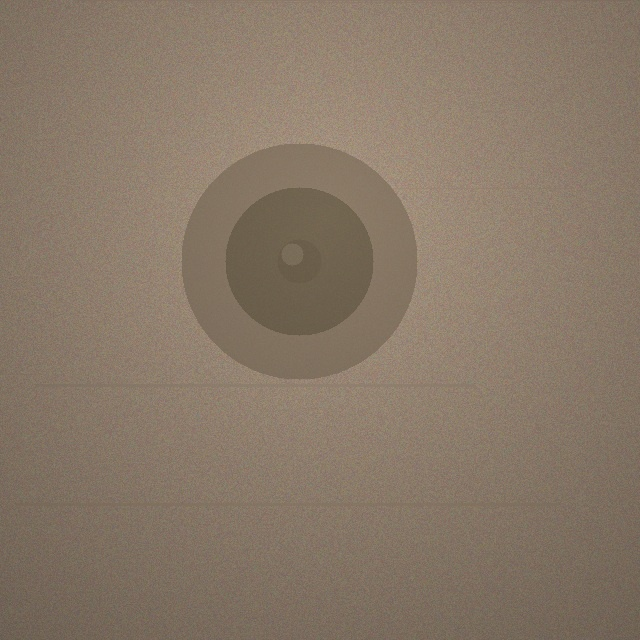good: (181, 143, 417, 379)
